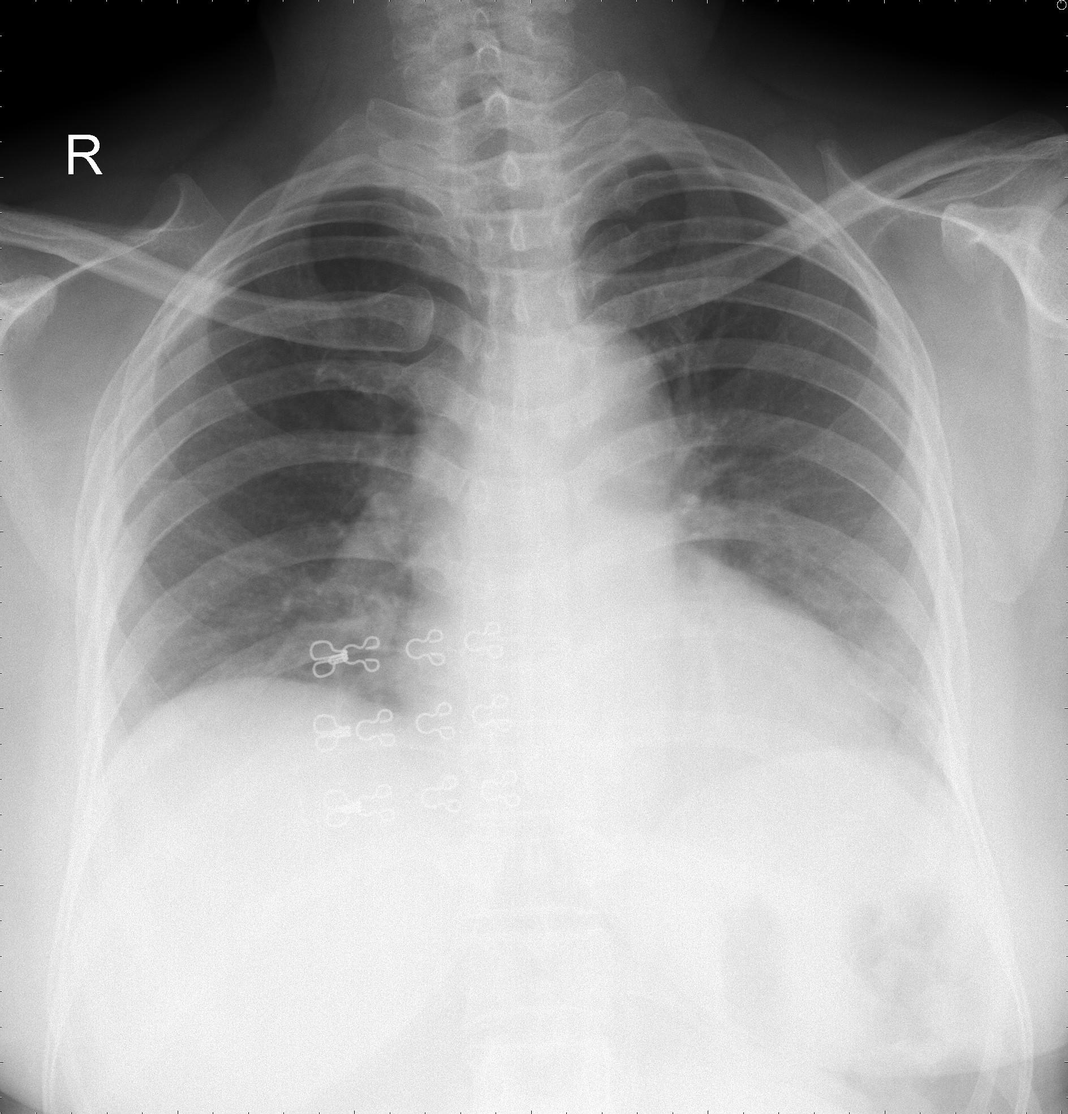Aortic enlargement: (548, 322, 687, 500)
Cardiomegaly: (386, 611, 895, 743)
